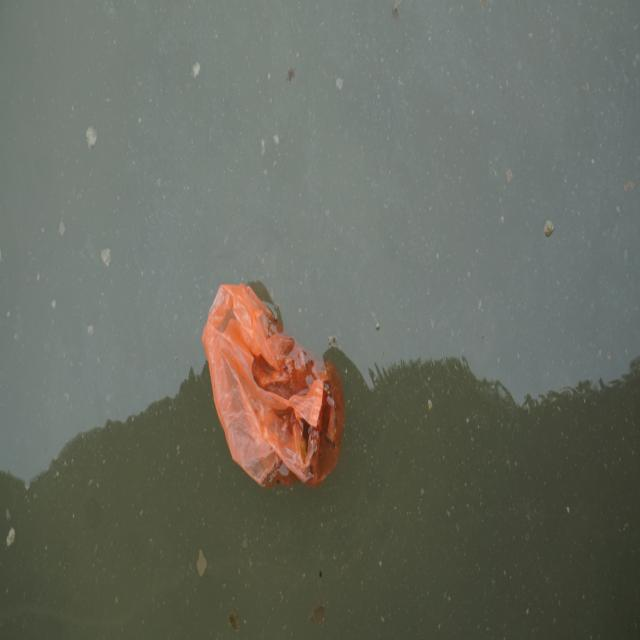Kantong Plastik: (199, 270, 349, 494)
